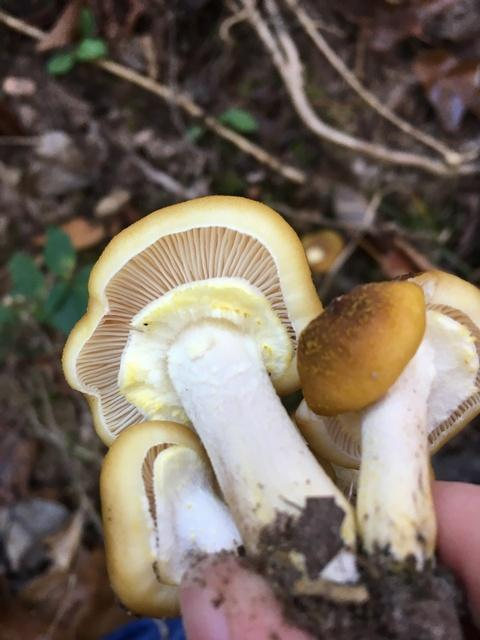edible_mushroom: (55, 189, 312, 626), (295, 267, 479, 579)
